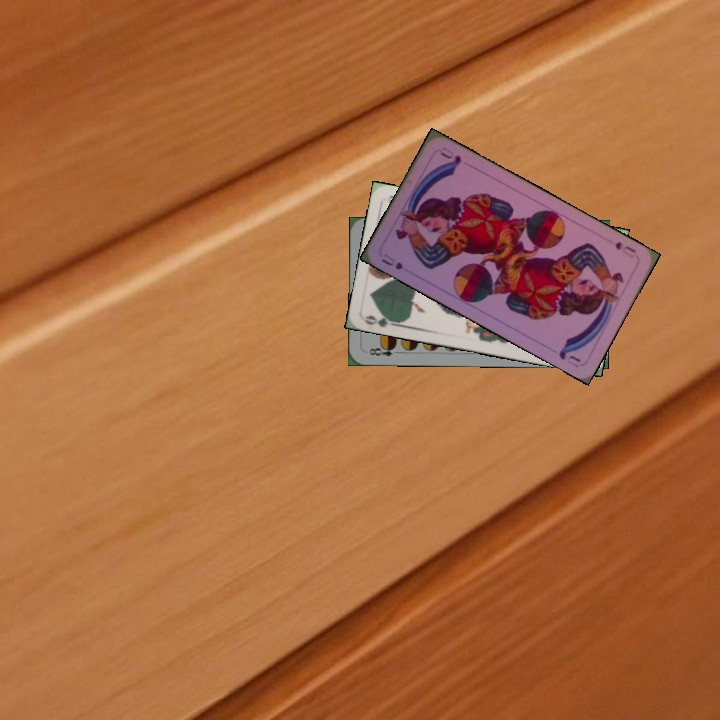E8: (365, 341, 403, 359)
GO: (361, 309, 403, 330)
SU: (378, 250, 406, 273), (610, 237, 638, 259)
